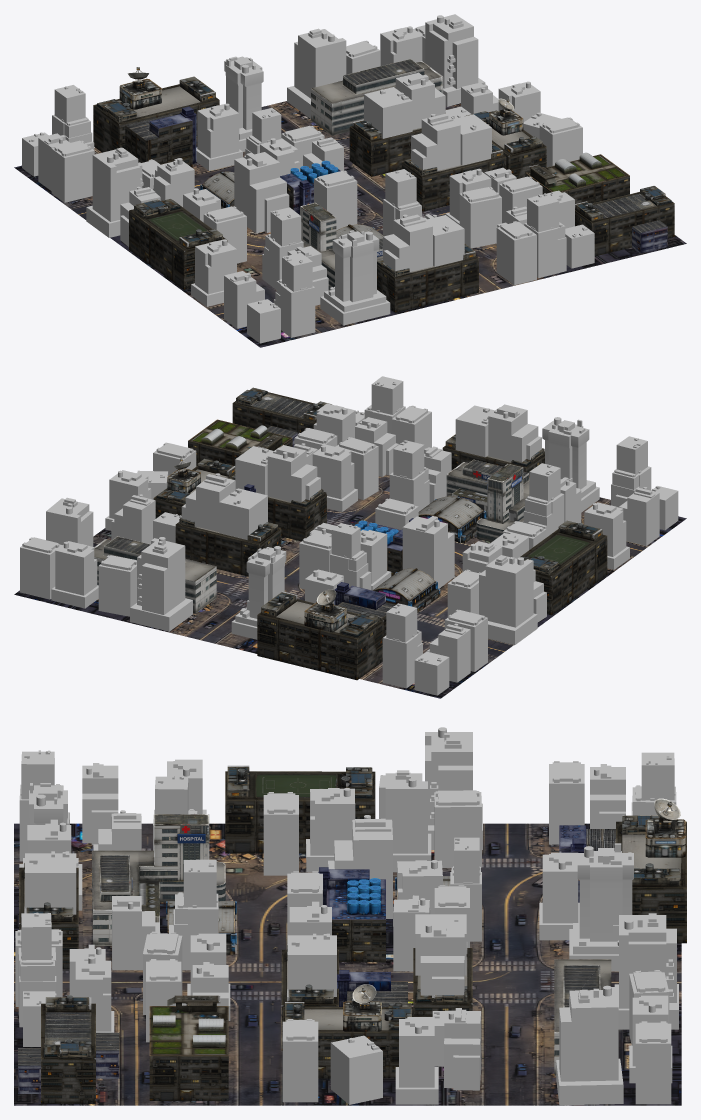
Rendered from CP_Slums_Pack_200x200_01.fbx.
3 renders of one model, top to bottom at view 1: azimuth 30°, elevation 25°; view 2: azimuth 150°, elevation 25°; view 3: azimuth 270°, elevation 25°, orthographic. The views are drawn at different scales.
Parts seen in each view (by area): view 1: CP_Slums_Pack_200x200_01; view 2: CP_Slums_Pack_200x200_01; view 3: CP_Slums_Pack_200x200_01.
Boxes of the visible parts, <box> form: CP_Slums_Pack_200x200_01: <box>14,14,686,347</box>; CP_Slums_Pack_200x200_01: <box>14,376,686,698</box>; CP_Slums_Pack_200x200_01: <box>14,727,686,1105</box>.
Bounding box in the file's own units: 20043 × 3555 × 20160.
